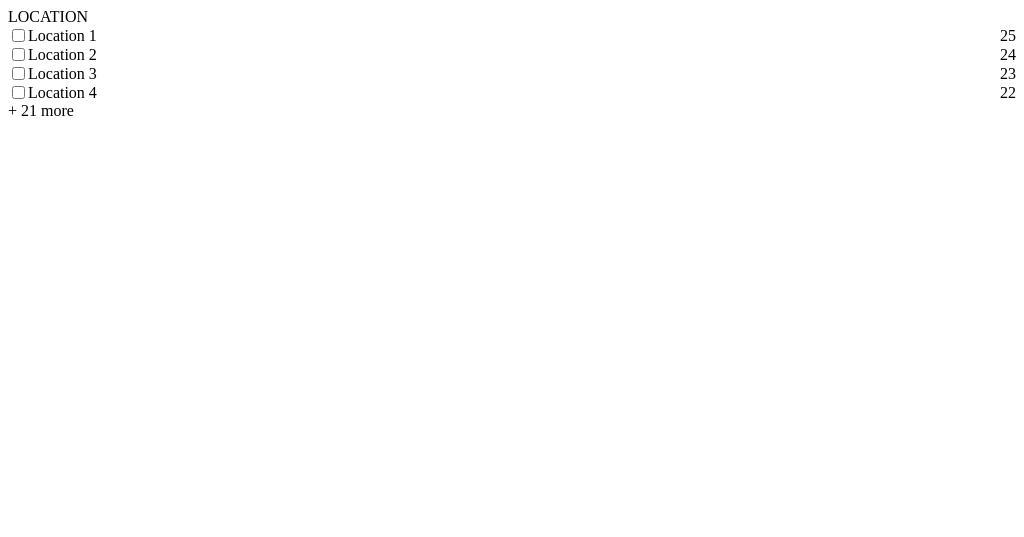
Test: FacetGroup › collapses again once expanded, so a long facet can be scrolled past
Click the button "+ 21 more": (41, 111) [8,102,74,120]
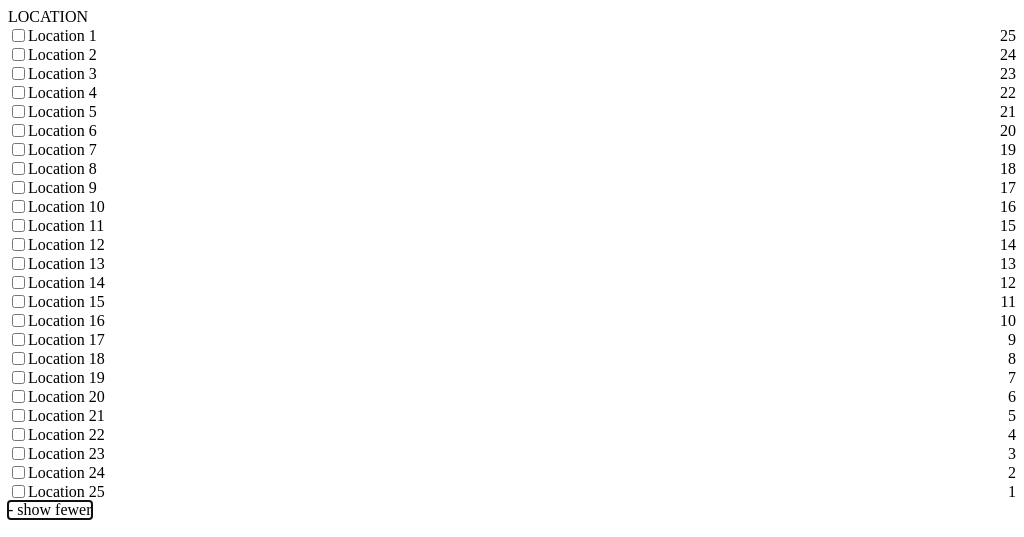
Result: the text "Location 25" is shown at [28,482,105,500]
Click the button "- show fewer": (50, 510) [8,501,92,519]
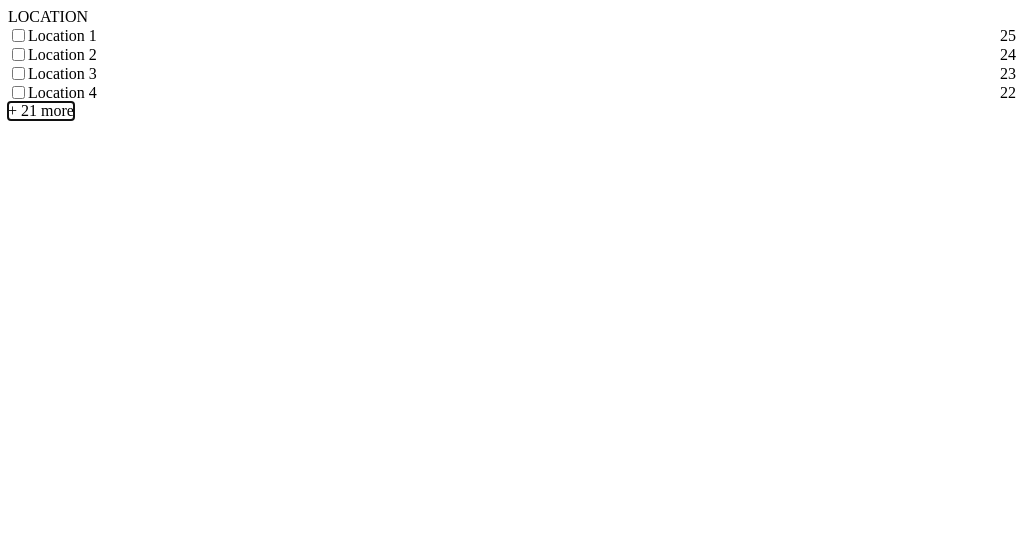
Result: the text "Location 25" is gone
Result: the button "+ 21 more" is shown at [8,102,74,120]
